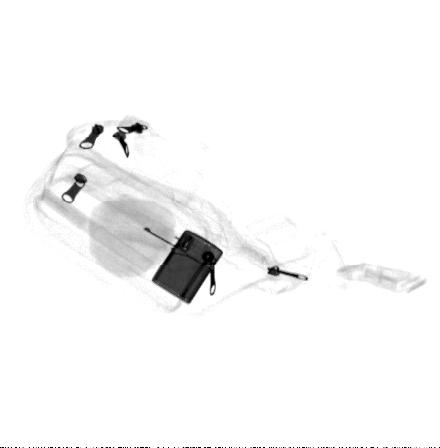Lighter: (150, 229, 225, 305)
